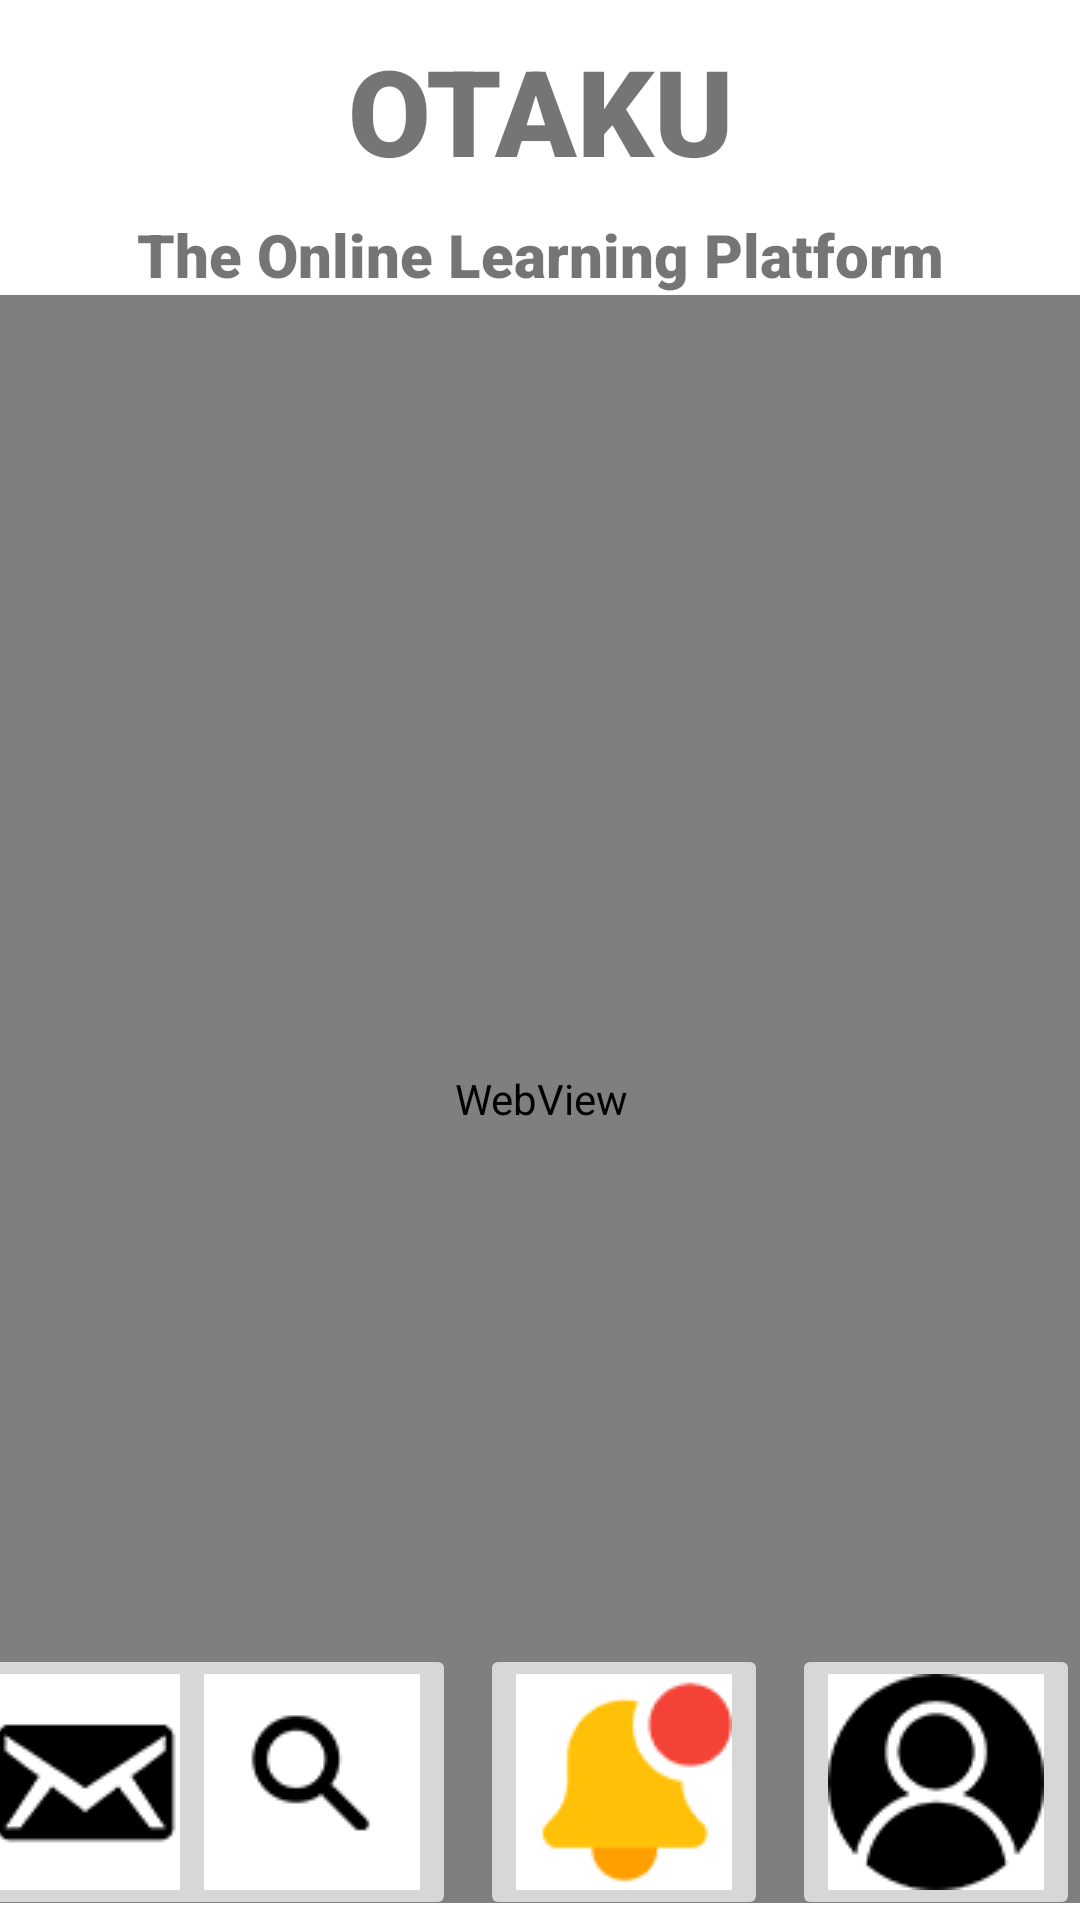

Icon bounding boxes for this 1080 x 1920 phone screenshot, format (x1, y1, x2, y2):
notification: (492, 1662, 756, 1902)
profile: (804, 1662, 1068, 1902)
search: (168, 1662, 456, 1920)
